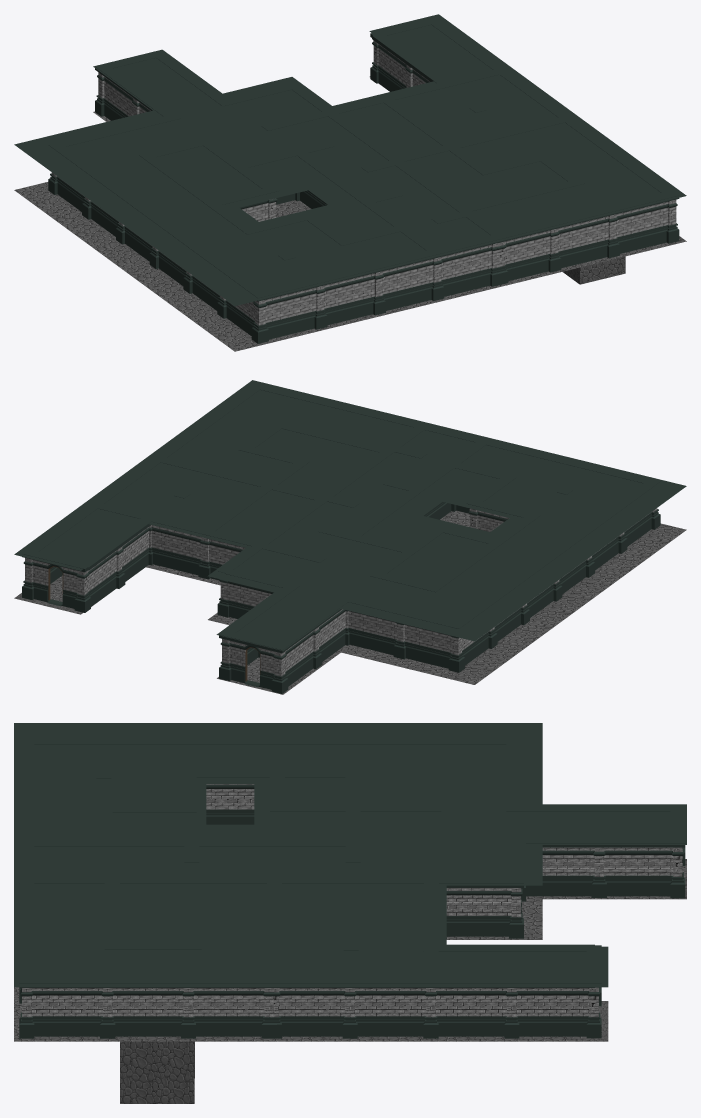
The model's file is Maze_Level_2.fbx.
3 views of the same model, one above another, from view 1: azimuth 30°, elevation 25°; view 2: azimuth 150°, elevation 25°; view 3: azimuth 270°, elevation 25° (orthographic). The views are drawn at different scales.
Visible parts, largest first — view 1: TopLevel2, Level_02, FloorLevel2; view 2: TopLevel2, Level_02, FloorLevel2; view 3: TopLevel2, Level_02, FloorLevel2.
Part boxes in pixels (x1,y1,x2,y2): TopLevel2: (14, 14, 686, 305); Level_02: (48, 17, 679, 343); FloorLevel2: (14, 76, 686, 351); TopLevel2: (14, 380, 686, 650); Level_02: (22, 382, 660, 693); FloorLevel2: (14, 510, 686, 694); TopLevel2: (14, 723, 686, 987); Level_02: (19, 737, 685, 1038); FloorLevel2: (14, 859, 686, 1103).
Size of the model in its own units: 3092 by 693 by 3330.
